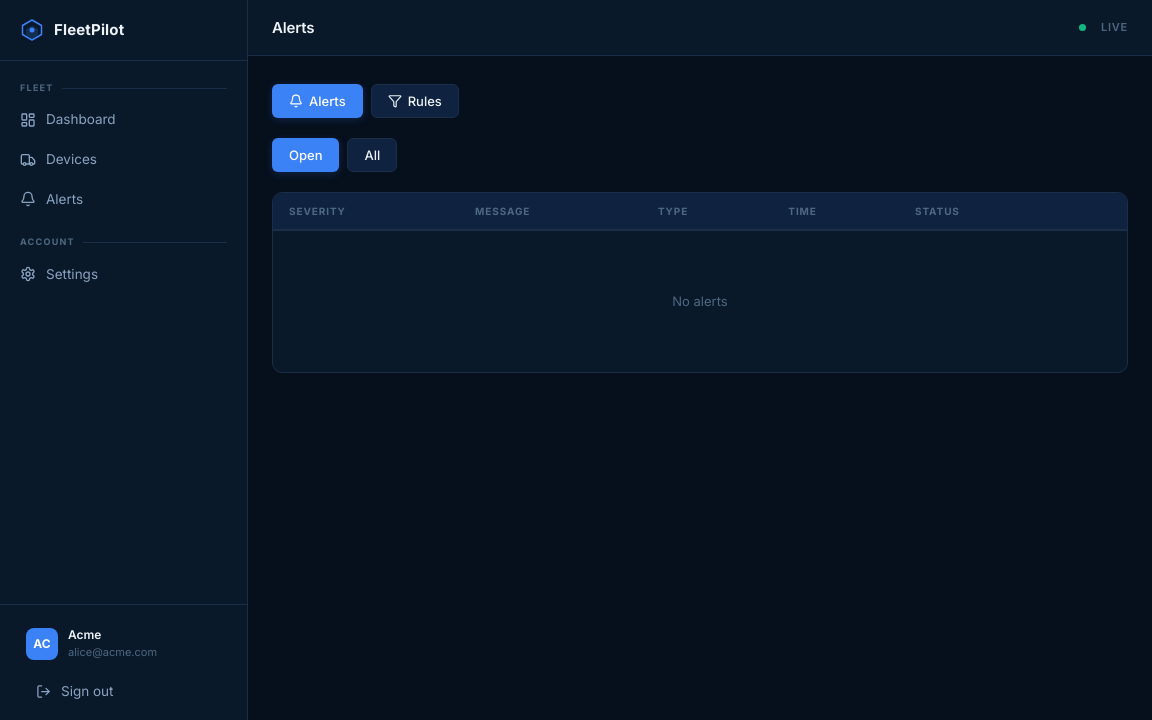
Alerts › switches to Rules tab and shows Alert Rules heading
This screenshot has width=1152, height=720.
Click the button "rules": (415, 101) [371,84,459,118]
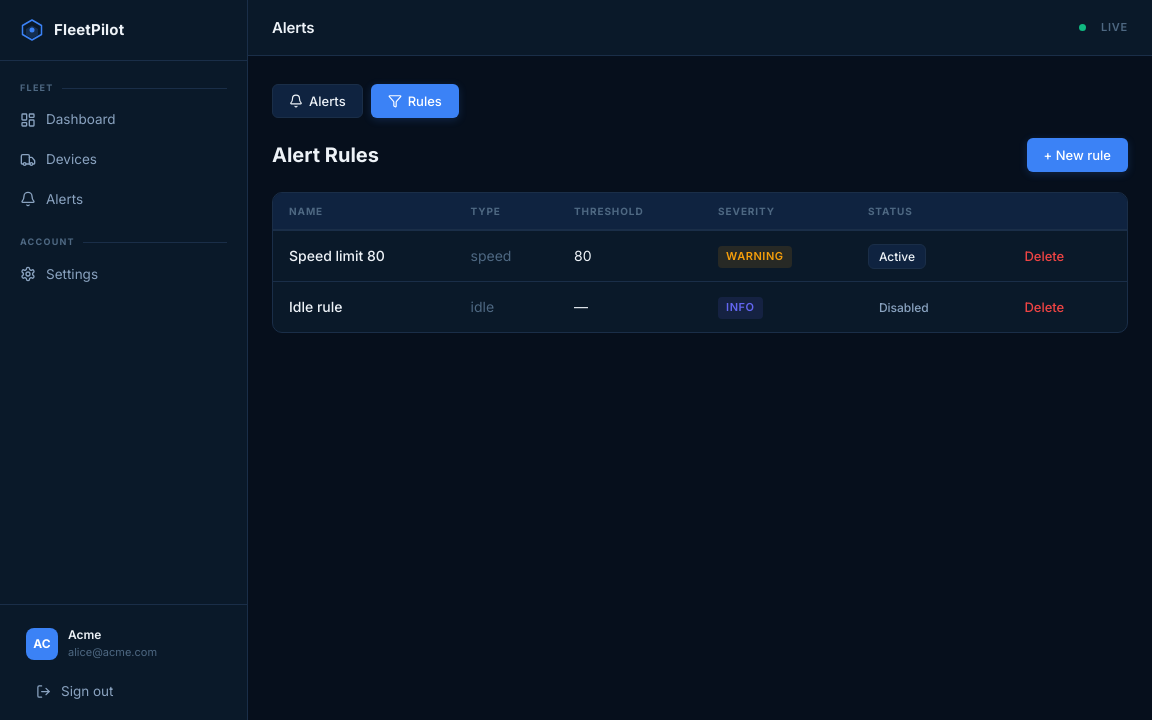
Expected: the heading "Alert Rules" is shown, [272,139,379,171]
